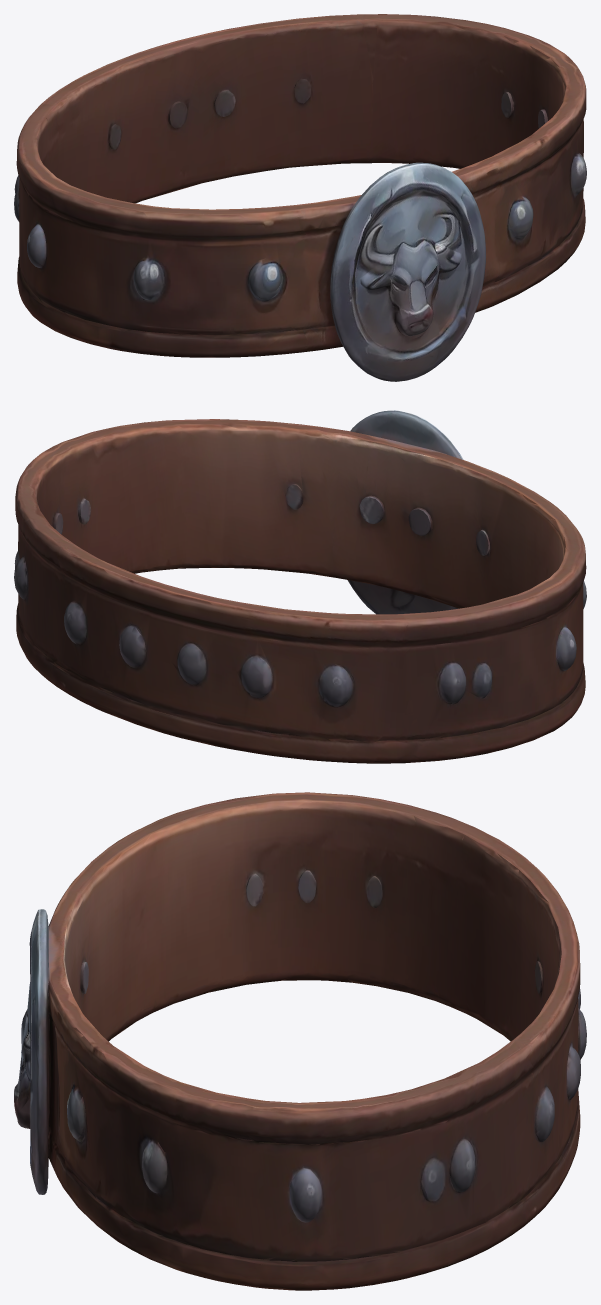
File: berserk_m_belt.glb
3 views of the same model, one above another, from view 1: azimuth 30°, elevation 25°; view 2: azimuth 150°, elevation 25°; view 3: azimuth 270°, elevation 25° (orthographic). The views are drawn at different scales.
Visible parts, largest first — view 1: model; view 2: model; view 3: model.
Boxes of the visible parts, <box> form: model: <box>14,14,586,381</box>; model: <box>14,410,586,763</box>; model: <box>14,792,586,1290</box>.
Size of the model in its own units: 0.3997 by 0.1497 by 0.2899.
Materials: 1 (1 with a texture image).
